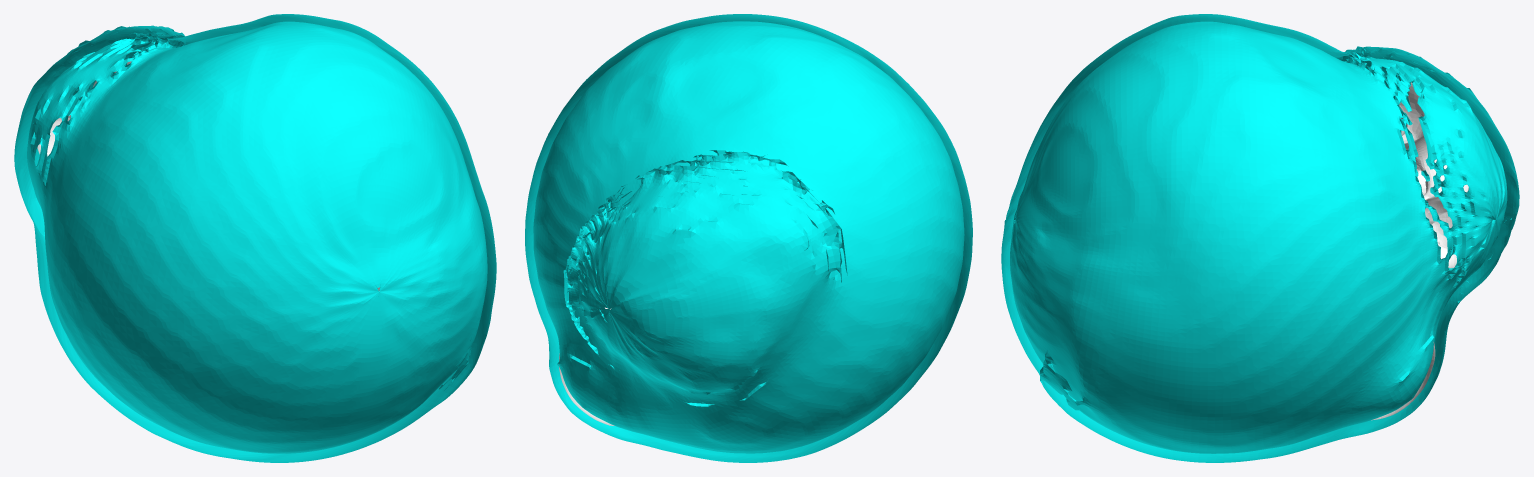
3 views of the same model, side by side, from view 1: azimuth 30°, elevation 25°; view 2: azimuth 150°, elevation 25°; view 3: azimuth 270°, elevation 25° (orthographic).
Parts seen in each view (by area): view 1: Renderer Node; view 2: Renderer Node; view 3: Renderer Node.
Boxes of the visible parts, left/top/right/bottom form: Renderer Node: left=14, top=14, right=496, bottom=462; Renderer Node: left=525, top=14, right=972, bottom=462; Renderer Node: left=1001, top=14, right=1519, bottom=462.
Size of the model in its own units: 1.11e+14 by 1.1e+14 by 1.27e+14.
